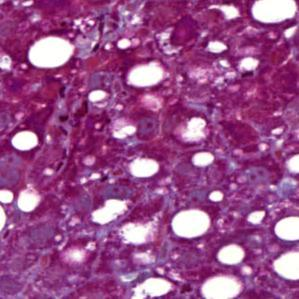steatosis: (30, 35, 78, 72), (168, 208, 214, 241), (125, 64, 166, 86)
